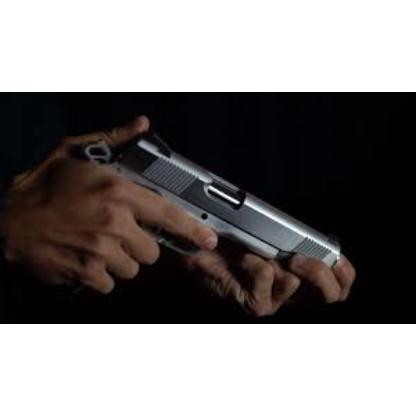gun: (52, 121, 338, 313)
